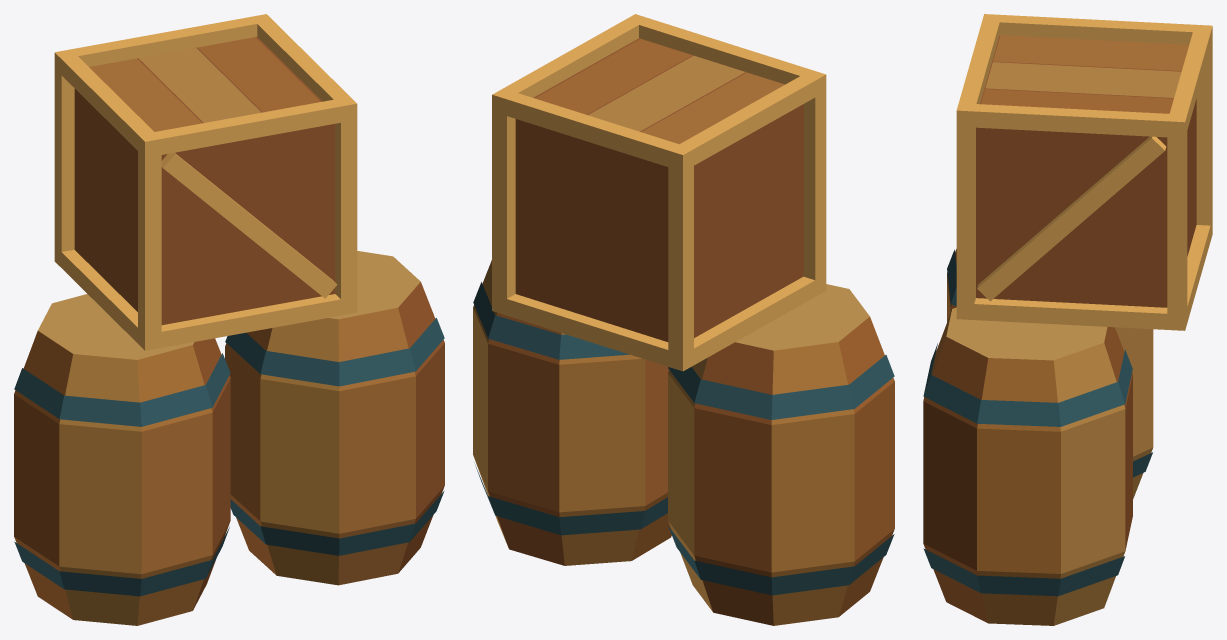
File: barrels_crates.glb
The picture shows the model from 3 angles, left to right: view 1: azimuth 30°, elevation 25°; view 2: azimuth 150°, elevation 25°; view 3: azimuth 270°, elevation 25°; orthographic projection. The views are drawn at different scales.
Visible parts, largest first — view 1: staves_and_lids (×2), plank_body, lid_planks, hoop_1 (×2), hoop_0 (×2), upright_0_1, upright_1_1, rail_x_1_1, front_diagonal, rail_x_0_1, upright_0_0, rail_x_1_0 (+3 smaller); view 2: staves_and_lids (×2), plank_body, lid_planks, hoop_1 (×2), hoop_0 (×2), upright_0_0, upright_1_0, upright_0_1, rail_x_1_0, rail_x_0_0, rail_x_1_1, rail_z_1_0 (+2 smaller); view 3: staves_and_lids (×2), plank_body, lid_planks, hoop_1 (×2), right_diagonal, rail_z_1_1, upright_1_0, rail_z_0_1, upright_1_1, rail_z_1_0, hoop_0, upright_0_0 (+3 smaller).
Part boxes in pixels (x1,y1,x2,y2): staves_and_lids (×2): (14,251,444,625); plank_body: (74,37,335,324); lid_planks: (89,37,320,131); hoop_1 (×2): (14,318,444,426); hoop_0 (×2): (14,491,444,596); upright_0_1: (138,132,161,350); upright_1_1: (334,97,357,315); rail_x_1_1: (155,99,340,154); front_diagonal: (161,152,337,298); rail_x_0_1: (161,294,340,347); upright_0_0: (54,49,77,267); rail_x_1_0: (71,17,257,66); staves_and_lids (×2): (473,260,894,625); plank_body: (515,38,803,341); lid_planks: (535,38,784,144); hoop_1 (×2): (473,282,894,419); hoop_0 (×2): (474,462,894,595); upright_0_0: (668,144,693,371); upright_1_0: (492,88,517,315); upright_0_1: (801,70,826,296); rail_x_1_0: (507,93,678,166); rail_x_0_0: (507,294,668,366); rail_x_1_1: (639,18,810,84); rail_z_1_0: (680,76,815,165); staves_and_lids (×2): (923,249,1153,625); plank_body: (976,35,1196,307); lid_planks: (981,35,1188,113); hoop_1 (×2): (923,249,1132,426); right_diagonal: (977,136,1166,301); rail_z_1_1: (974,104,1169,137); upright_1_0: (1167,114,1187,330); rail_z_0_1: (974,298,1167,329); upright_1_1: (956,103,976,319); rail_z_1_0: (999,15,1194,44); hoop_0: (923,548,1124,596); upright_0_0: (1193,24,1212,240).
Size of the model in its own units: 0.4209 by 0.5 by 0.2766.
